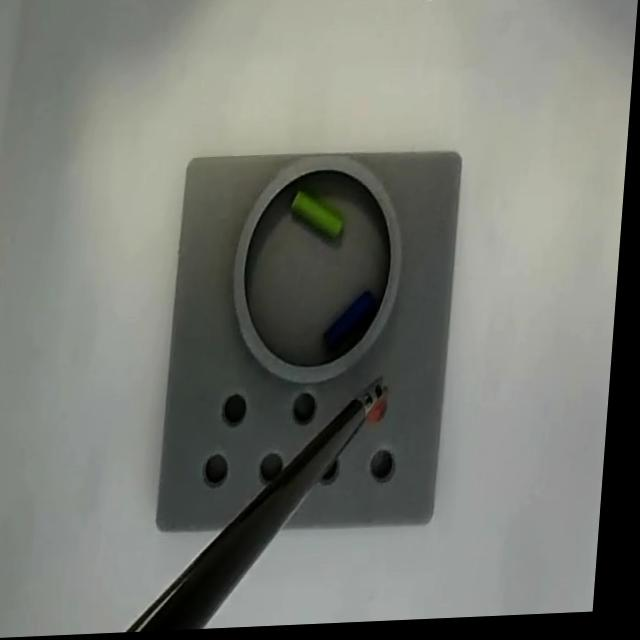EmptyHole: (226, 390, 256, 430), (209, 453, 238, 494), (375, 449, 404, 489), (294, 392, 326, 428), (264, 453, 294, 488), (320, 452, 348, 486)
FilledHole: (369, 389, 395, 427)
